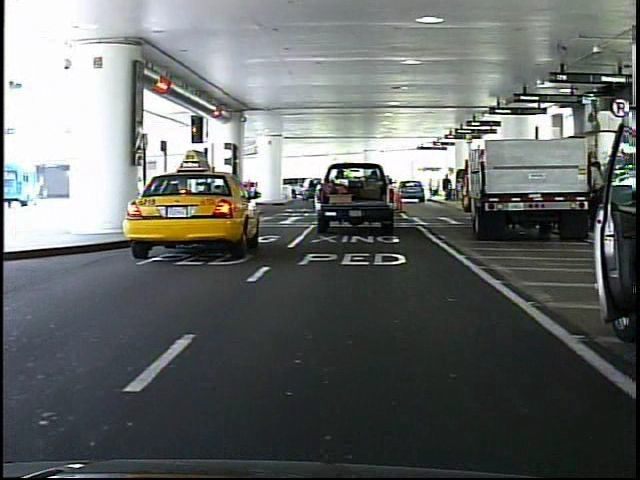person: (199, 167, 219, 214)
